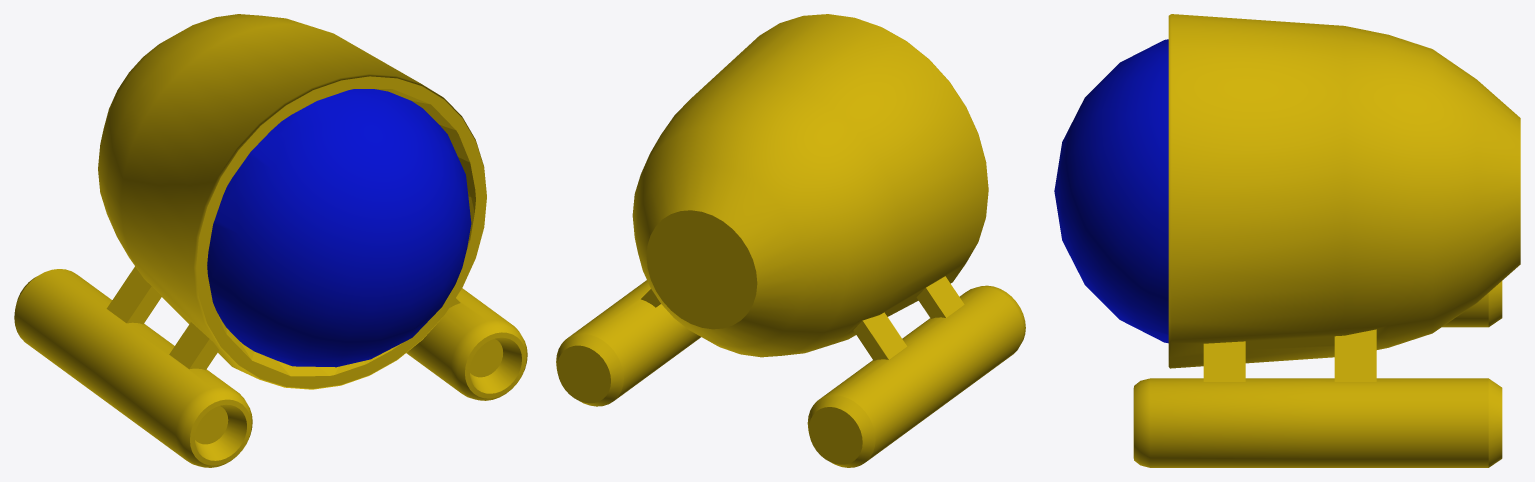
File: submarine_v3.obj
3 views of the same model, side by side, from view 1: azimuth 30°, elevation 25°; view 2: azimuth 150°, elevation 25°; view 3: azimuth 270°, elevation 25° (orthographic). The views are drawn at different scales.
Visible parts, largest first — view 1: Main_Cylinder.002; view 2: Main_Cylinder.002; view 3: Main_Cylinder.002.
Boxes of the visible parts, <box> form: Main_Cylinder.002: <box>14,14,527,467</box>; Main_Cylinder.002: <box>556,14,1025,467</box>; Main_Cylinder.002: <box>1054,14,1520,467</box>.
Bounding box in the file's own units: 2.4 × 2.28 × 2.65.
